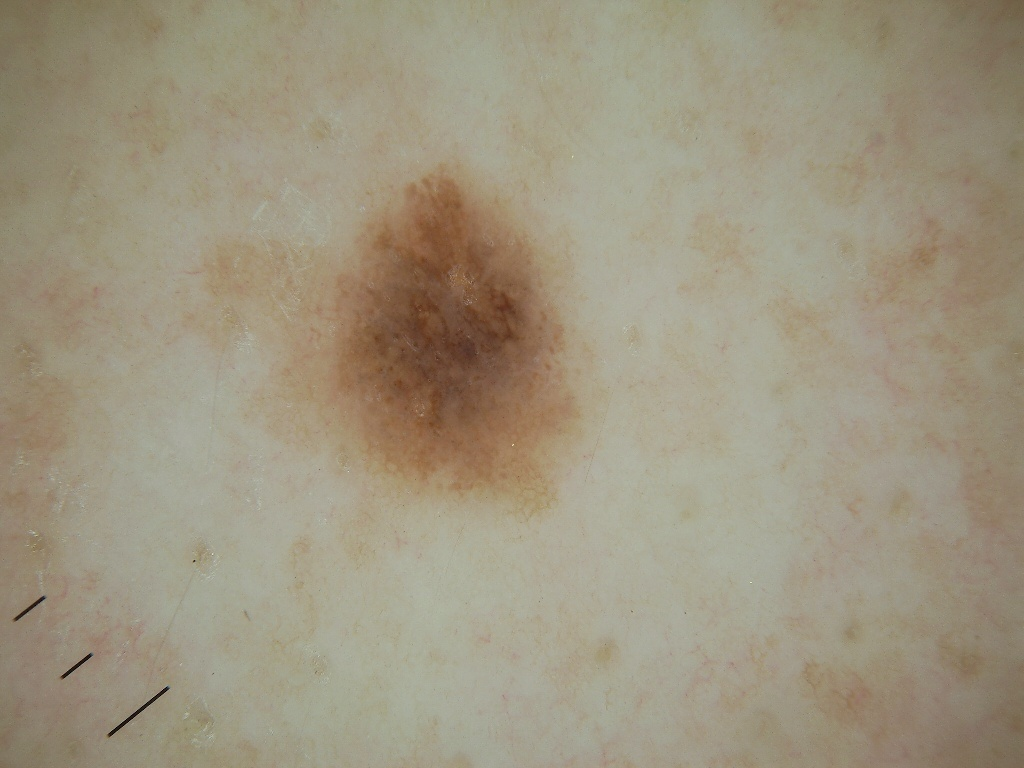Detected Lesion: (218, 165, 609, 535)
